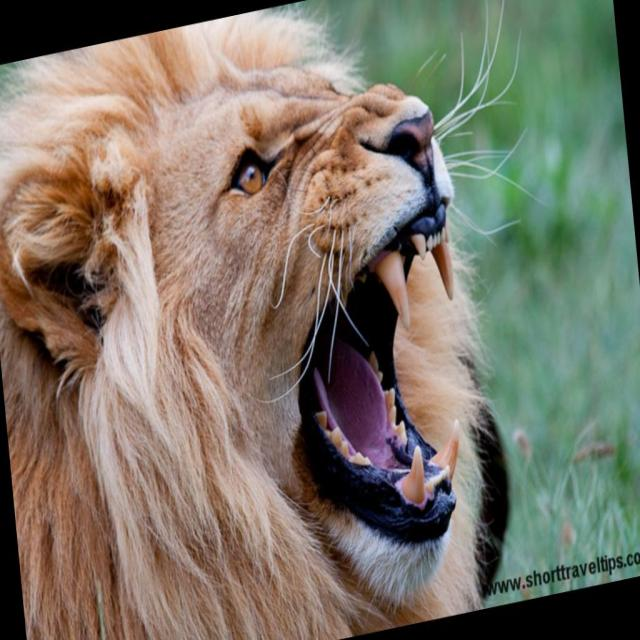Lion: (0, 0, 583, 639)
